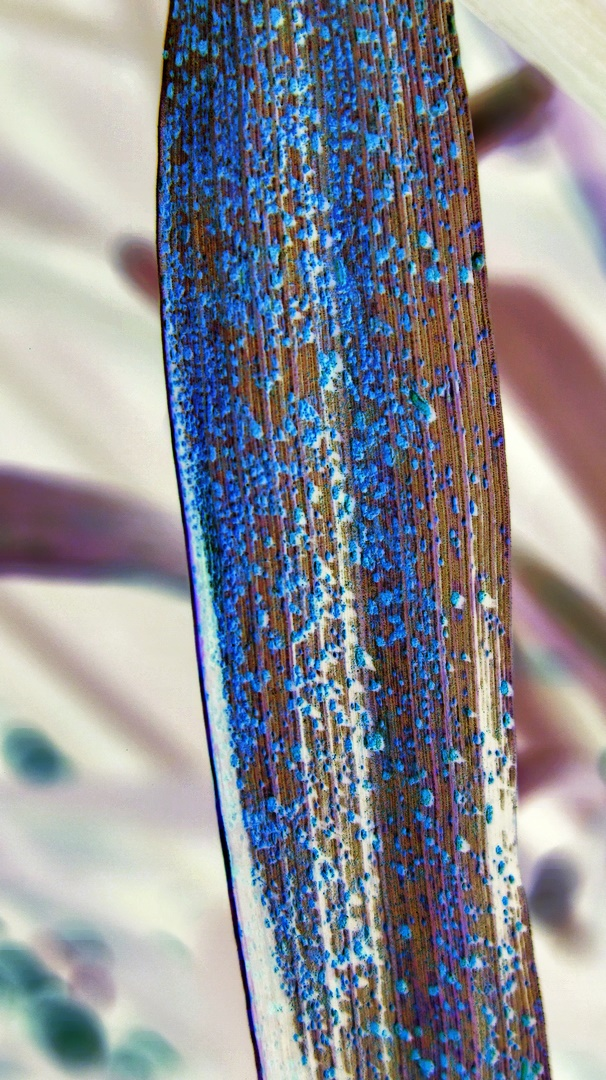Leaf Rust: (155, 64, 571, 1041)
